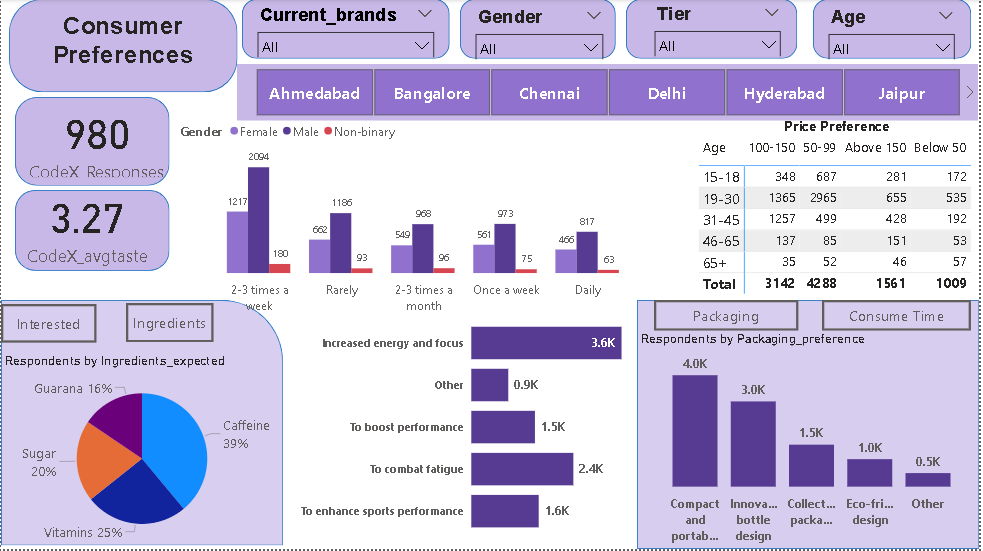

The page's visual inventory and layout, read from the dashboard file:
{"tool":"powerbi","page":{"name":"Consumer Preference","canvas":[1280,720],"ordinal":2},"visuals":[{"type":"shape","box":[832,394.4,448,326],"z":0},{"type":"shape","box":[0,394.4,369.1,321.5],"z":1000},{"type":"shape","box":[1062.7,0,207.1,78.1],"z":2000},{"type":"shape","box":[818.2,0,224.1,78.1],"z":3000},{"type":"shape","box":[601,0,203.7,78.1],"z":4000},{"type":"shape","box":[315.8,0,271.6,78.1],"z":5000},{"type":"shape","box":[17.9,128,202.4,116.1],"z":6000},{"type":"shape","box":[10.4,0,299.2,122],"z":7000},{"type":"textbox","box":[10.4,10.4,299.2,95.3],"z":8000},{"type":"shape","box":[17.9,250,202.4,105.7],"z":9000},{"type":"card","fields":{"Values":["Measuretable.Responces_for_CodeX"]},"box":[29.8,132.5,190.5,105.7],"z":10000},{"type":"card","fields":{"Values":["Measuretable.CodeX_avg_taste_exp"]},"box":[22.3,233.7,181.6,122],"z":11000},{"type":"pieChart","fields":{"Y":["Measuretable.Total_People"],"Category":["fact_survey_responses.Ingredients_expected"]},"box":[0,462.9,369.1,257.5],"z":12000},{"type":"barChart","fields":{"Y":["Measuretable.Respondents"],"Category":["fact_survey_responses.Consume_reason"]},"box":[379.1,393.8,464.3,326.2],"z":14000},{"type":"clusteredColumnChart","title":"Consumption Frequency  by Gender","fields":{"Y":["Measuretable.Total_People"],"Series":["dim_repondents.Gender"],"Category":["fact_survey_responses.Consume_frequency"]},"box":[235.2,156.3,619.2,259],"z":15000},{"type":"pivotTable","title":"Price Preference","fields":{"Rows":["dim_repondents.Age"],"Columns":["fact_survey_responses.Price_range"],"Values":["Measuretable.Respondents"]},"box":[908.1,155.8,371.8,238],"z":16000},{"type":"slicer","fields":{"Values":["dim_cities.City"]},"box":[309.6,84.8,970.4,74.4],"z":17000},{"type":"slicer","fields":{"Values":["dim_repondents.Gender"]},"box":[611.1,3.4,186.7,74.7],"z":18000},{"type":"slicer","fields":{"Values":["fact_survey_responses.Current_brands"]},"box":[325.9,1.7,251.2,74.7],"z":19000},{"type":"slicer","fields":{"Values":["dim_repondents.Age"]},"box":[1072.9,3.4,185,74.7],"z":20000},{"type":"slicer","fields":{"Values":["dim_cities.Tier"]},"box":[845.4,0,185,74.7],"z":21000},{"type":"columnChart","fields":{"Y":["Measuretable.Total_People"],"Category":["fact_survey_responses.Packaging_preference"]},"box":[832,434.6,448,285.8],"z":22000},{"type":"actionButton","box":[0,398.9,125,50.6],"z":24000},{"type":"actionButton","box":[163.1,398.2,114.6,51.4],"z":25000},{"type":"actionButton","box":[854.3,394.4,189,40.2],"z":26000},{"type":"actionButton","box":[1074.6,394.4,195,40.2],"z":27000}]}

Visuals, with their boxes in screenshot pixels (x1, y1, x2, y2), scaled from the page's 1280x720 canvas onto the 983x551 screenshot:
shape: <bbox>639, 302, 982, 550</bbox>
shape: <bbox>0, 302, 283, 548</bbox>
shape: <bbox>816, 0, 975, 60</bbox>
shape: <bbox>628, 0, 800, 60</bbox>
shape: <bbox>462, 0, 618, 60</bbox>
shape: <bbox>243, 0, 451, 60</bbox>
shape: <bbox>14, 98, 169, 187</bbox>
shape: <bbox>8, 0, 238, 93</bbox>
textbox: <bbox>8, 8, 238, 81</bbox>
shape: <bbox>14, 191, 169, 272</bbox>
card - Measuretable.Responces_for_CodeX: <bbox>23, 101, 169, 182</bbox>
card - Measuretable.CodeX_avg_taste_exp: <bbox>17, 179, 157, 272</bbox>
pieChart - Measuretable.Total_People x fact_survey_responses.Ingredients_expected: <bbox>0, 354, 283, 550</bbox>
barChart - Measuretable.Respondents x fact_survey_responses.Consume_reason: <bbox>291, 301, 648, 550</bbox>
"Consumption Frequency  by Gender" clusteredColumnChart: <bbox>181, 120, 656, 318</bbox>
"Price Preference" pivotTable: <bbox>697, 119, 982, 301</bbox>
slicer - dim_cities.City: <bbox>238, 65, 982, 122</bbox>
slicer - dim_repondents.Gender: <bbox>469, 3, 613, 60</bbox>
slicer - fact_survey_responses.Current_brands: <bbox>250, 1, 443, 58</bbox>
slicer - dim_repondents.Age: <bbox>824, 3, 966, 60</bbox>
slicer - dim_cities.Tier: <bbox>649, 0, 791, 57</bbox>
columnChart - Measuretable.Total_People x fact_survey_responses.Packaging_preference: <bbox>639, 333, 982, 550</bbox>
actionButton: <bbox>0, 305, 96, 344</bbox>
actionButton: <bbox>125, 305, 213, 344</bbox>
actionButton: <bbox>656, 302, 801, 333</bbox>
actionButton: <bbox>825, 302, 975, 333</bbox>
